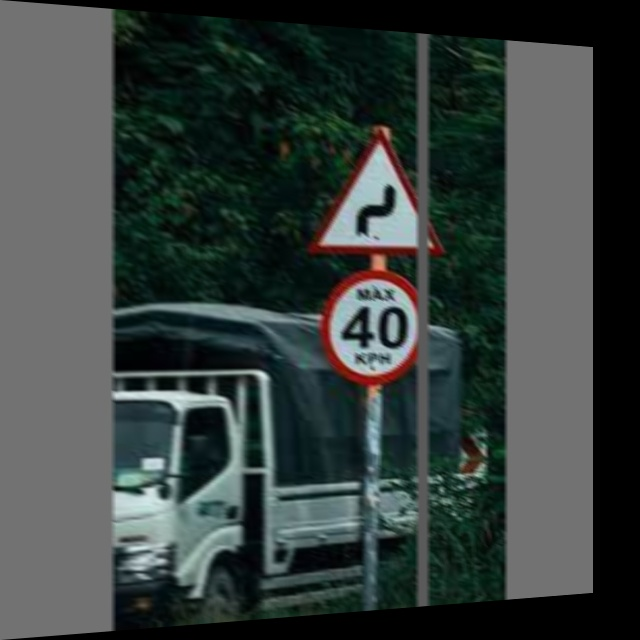Speed_Limit_40: (319, 266, 428, 383)
